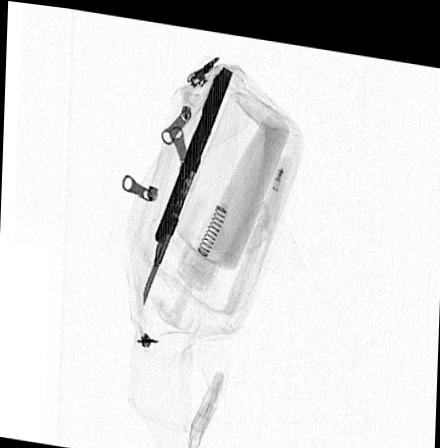Knife: (142, 59, 234, 302)
